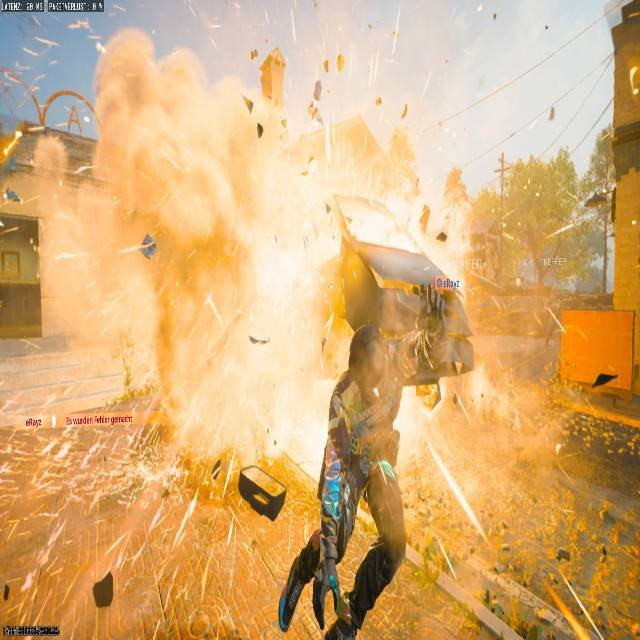head: (376, 287, 419, 334)
player: (320, 290, 474, 617)
